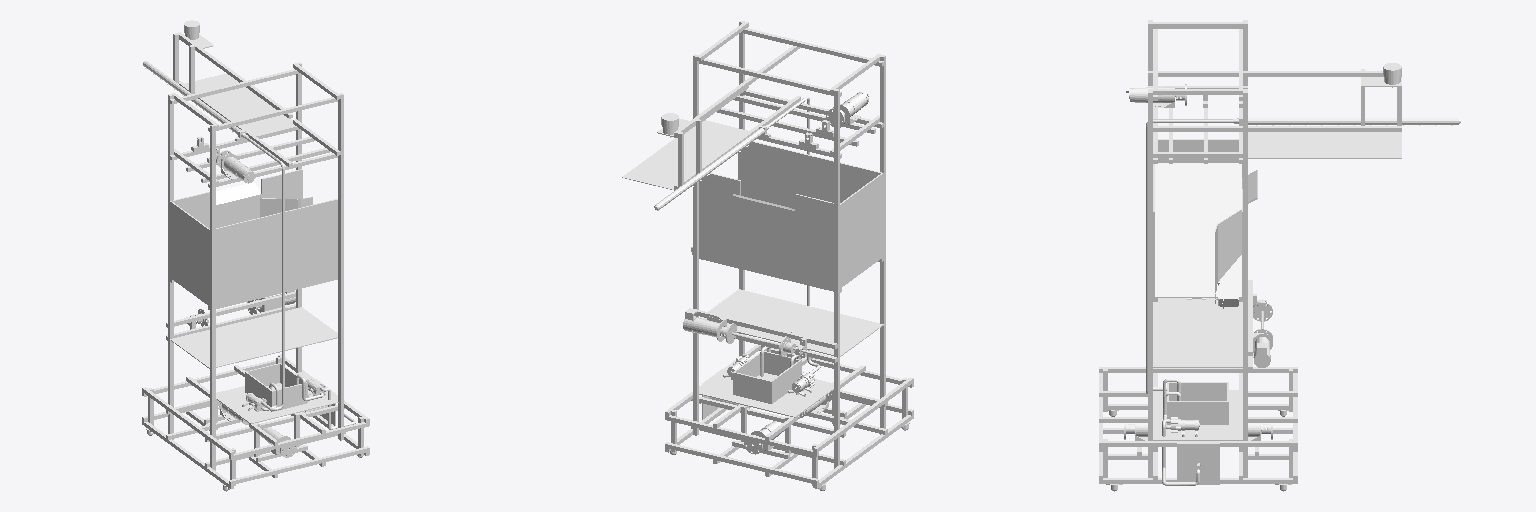
URDF robot description (Basin):
<?xml version="1.0" encoding="utf-8"?>
<!-- This URDF was automatically created by SolidWorks to URDF Exporter! Originally created by [author] ([email redacted]) 
     Commit Version: 1.6.0-1-g15f4949  Build Version: 1.6.7594.29634
     For more information, please see http://wiki.ros.org/sw_urdf_exporter -->
<robot
  name="Basin">
  <link
    name="base_link">
    <inertial>
      <origin
        xyz="0.625347346345055 -0.318006379664815 0.234552362930051"
        rpy="0 0 0" />
      <mass
        value="50.22199318017" />
      <inertia
        ixx="216.227281059866"
        ixy="40.0298042367422"
        ixz="-28.9769343640001"
        iyy="216.826512518552"
        iyz="-1.60893394735195"
        izz="392.383391970414" />
    </inertial>
    <visual>
      <origin
        xyz="0 0 0"
        rpy="0 0 0" />
      <geometry>
        <mesh
          filename="package://Basin/meshes/base_link.STL" />
      </geometry>
      <material
        name="">
        <color
          rgba="1 1 1 1" />
      </material>
    </visual>
    <collision>
      <origin
        xyz="0 0 0"
        rpy="0 0 0" />
      <geometry>
        <mesh
          filename="package://Basin/meshes/base_link.STL" />
      </geometry>
    </collision>
  </link>
</robot>

--- What the picture shows (computed from the rendered views, not written in the file) ---
The picture shows the robot from 3 angles, left to right: view 1: azimuth 30°, elevation 25°; view 2: azimuth 150°, elevation 25°; view 3: azimuth 270°, elevation 25°; orthographic projection.
Robot: Basin — 1 links, 0 joints (none); root link base_link; default pose: every joint at zero.
Visible links, largest first — view 1: base_link; view 2: base_link; view 3: base_link.
Link boxes in pixels (x1,y1,x2,y2): base_link: [142, 20, 369, 491]; base_link: [622, 21, 913, 490]; base_link: [1099, 20, 1460, 491].
Size in the robot's own frame: 0.5644 by 1 by 1.22 metres.
1 mesh visuals loaded from 1 distinct referenced files (1 binary STL).